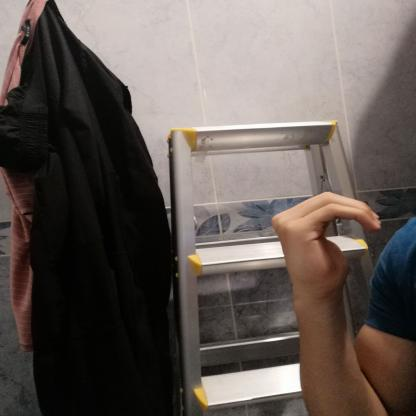HAA: (258, 182, 392, 305)
